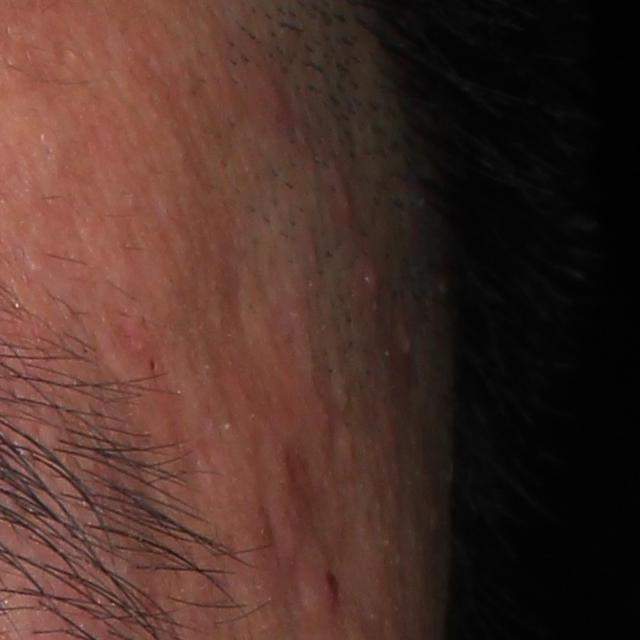papule: (297, 541, 347, 619), (254, 70, 299, 126), (360, 251, 387, 302), (334, 176, 355, 217)
